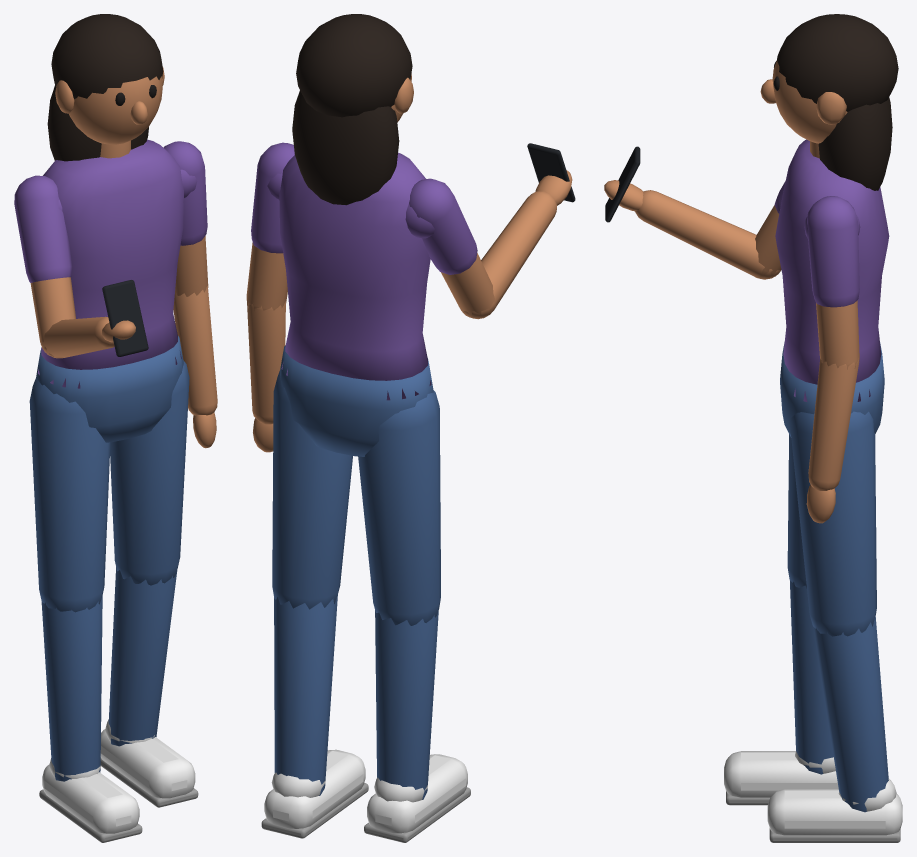
File: phone_girl.fbx
3 renders of one model, left to right at view 1: azimuth 30°, elevation 25°; view 2: azimuth 150°, elevation 25°; view 3: azimuth 270°, elevation 25°, orthographic. The views are drawn at different scales.
Visible parts, largest first — view 1: phone_girl; view 2: phone_girl; view 3: phone_girl.
Boxes of the visible parts, left/top/right/bottom form: phone_girl: left=14, top=14, right=217, bottom=842; phone_girl: left=246, top=14, right=575, bottom=842; phone_girl: left=604, top=14, right=902, bottom=842.
Size of the model in its own units: 0.4909 by 1.76 by 0.5972.
